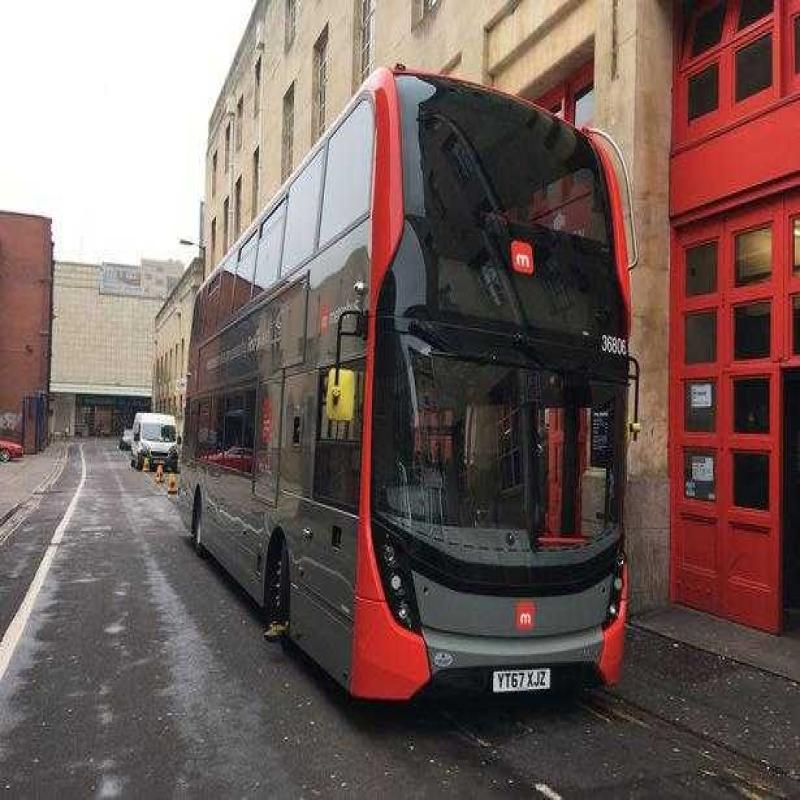bus: (169, 59, 657, 737)
